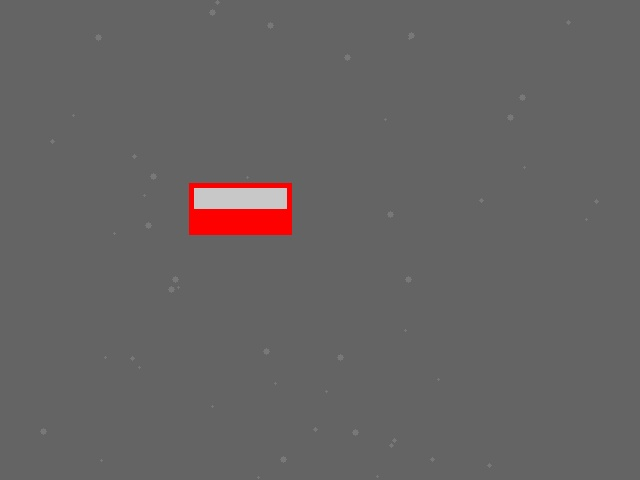car: (189, 183, 291, 234)
